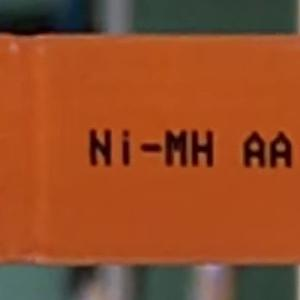keyword: (79, 121, 223, 176)
